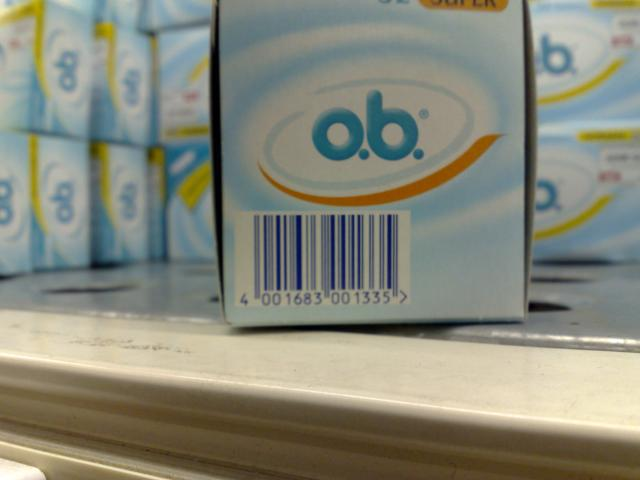Barkod: (252, 213, 398, 290)
